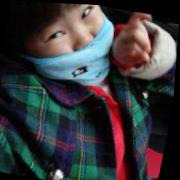WRONG: (29, 2, 121, 89)
